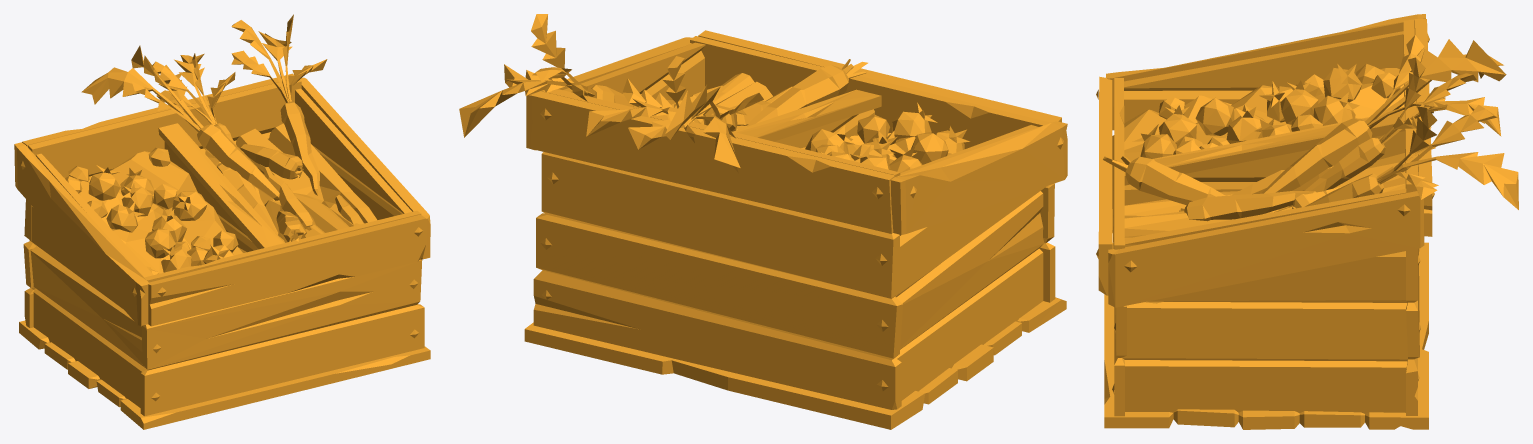
The model's file is SM_Crate_Slanted_Tomato_Carrot_Fantasy.fbx.
3 renders of one model, left to right at view 1: azimuth 30°, elevation 25°; view 2: azimuth 150°, elevation 25°; view 3: azimuth 270°, elevation 25°, orthographic. The views are drawn at different scales.
Parts seen in each view (by area): view 1: crate-slanted-tomato-carrot-fantasy; view 2: crate-slanted-tomato-carrot-fantasy; view 3: crate-slanted-tomato-carrot-fantasy.
Part boxes in pixels (x1,y1,x2,y2): crate-slanted-tomato-carrot-fantasy: [14, 14, 430, 429]; crate-slanted-tomato-carrot-fantasy: [459, 14, 1067, 429]; crate-slanted-tomato-carrot-fantasy: [1096, 14, 1518, 429].
Size of the model in its own units: 1.12 by 0.8747 by 1.05.
